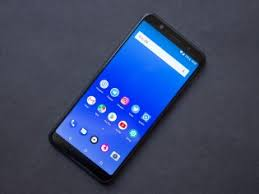asus: (49, 8, 207, 186)
